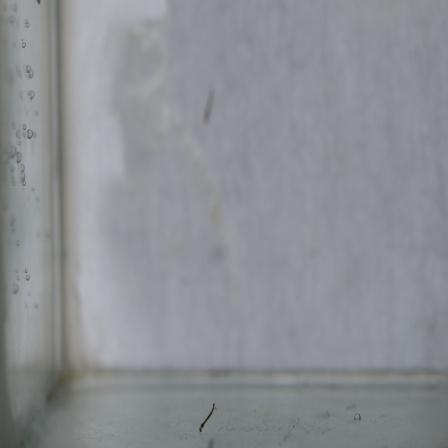Jentik-Nyamuk: (193, 398, 220, 434)
